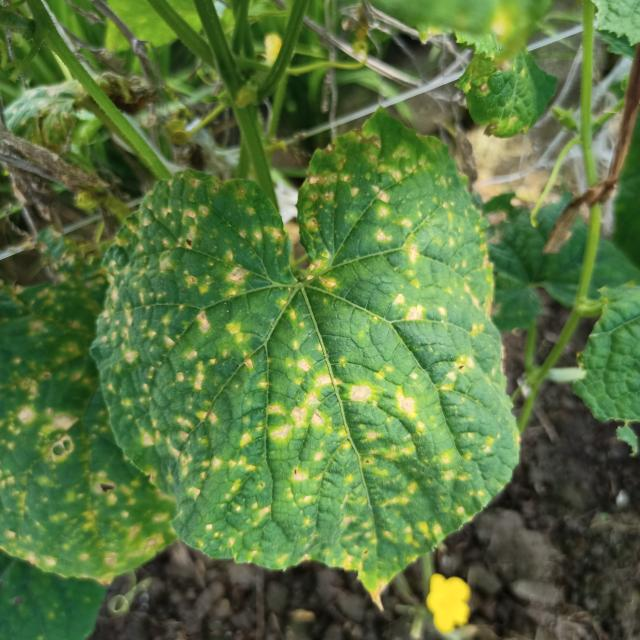disease_cucumber: (99, 138, 506, 566), (0, 272, 170, 568)
